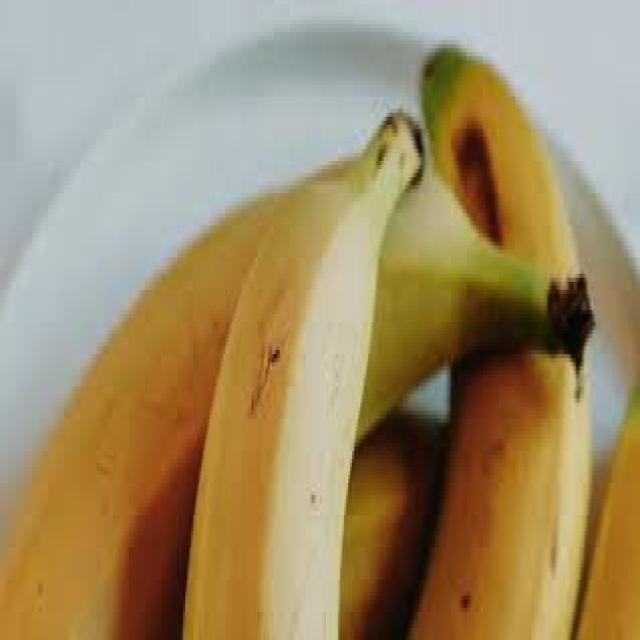banana: (3, 151, 584, 640), (416, 43, 601, 640), (186, 127, 376, 636)
